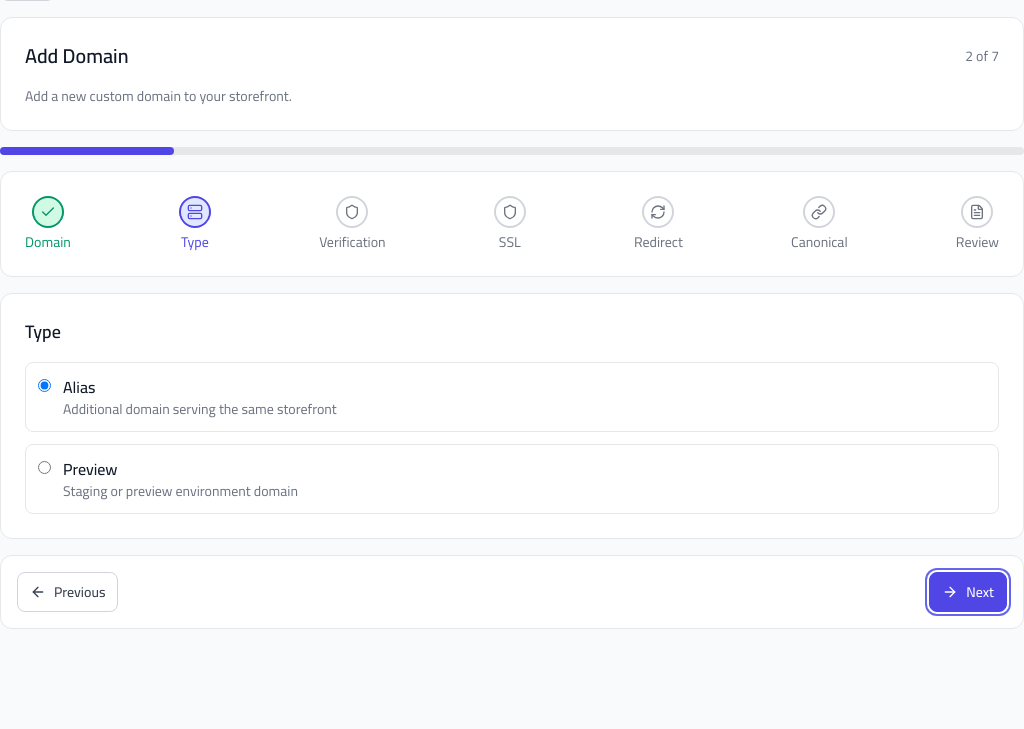
Domain wizard accepted creation and verification recovery › retries only verification setup after a partial success, never creating a second domain
Earlier steps of the test are not shown.
Later steps or results of the test are not shown.
Click the button "Next" at coordinates (968, 592), box 929,572 -> 1007,612
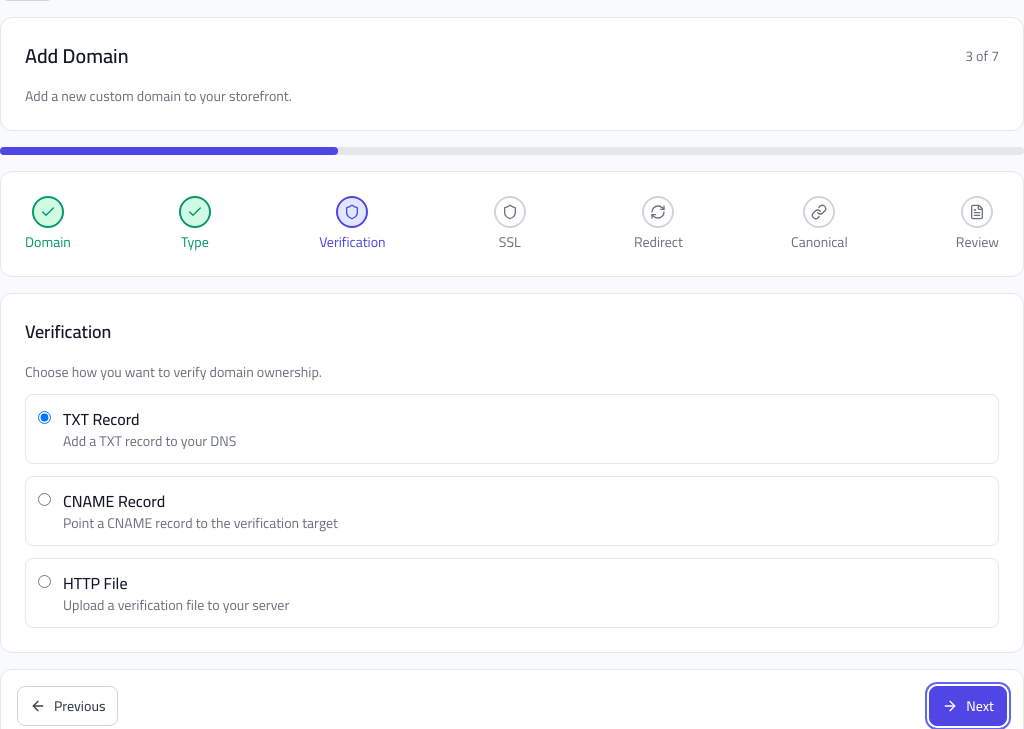
Click the button "Next" at coordinates (968, 706), box 929,686 -> 1007,726
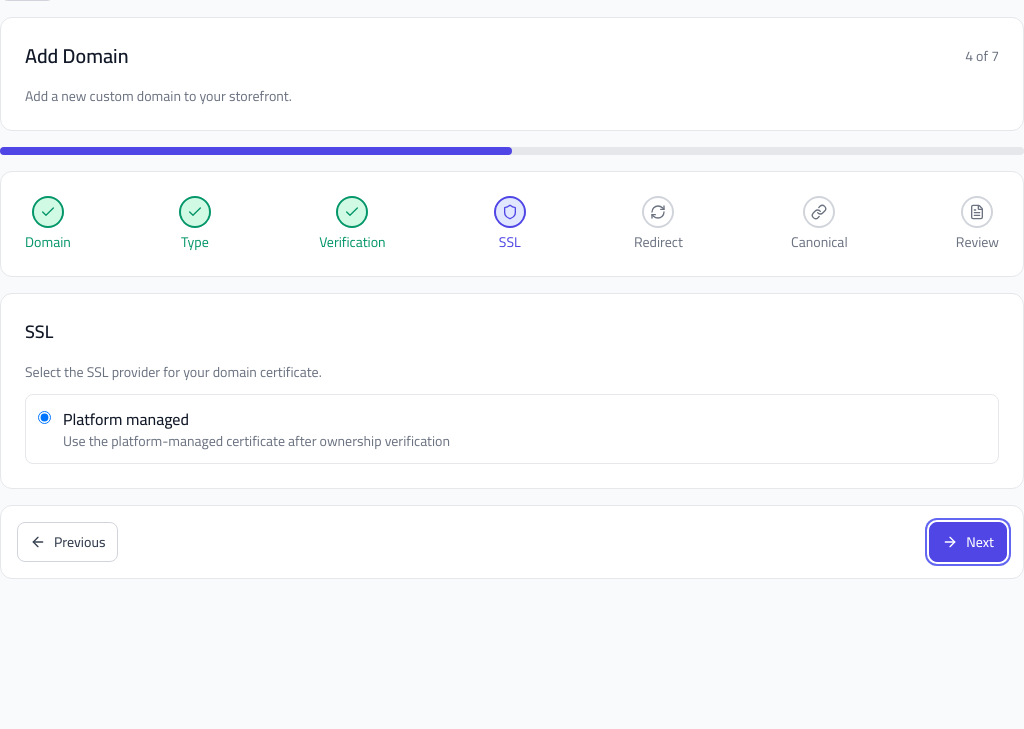
Click the button "Next" at coordinates (968, 542), box 929,522 -> 1007,562
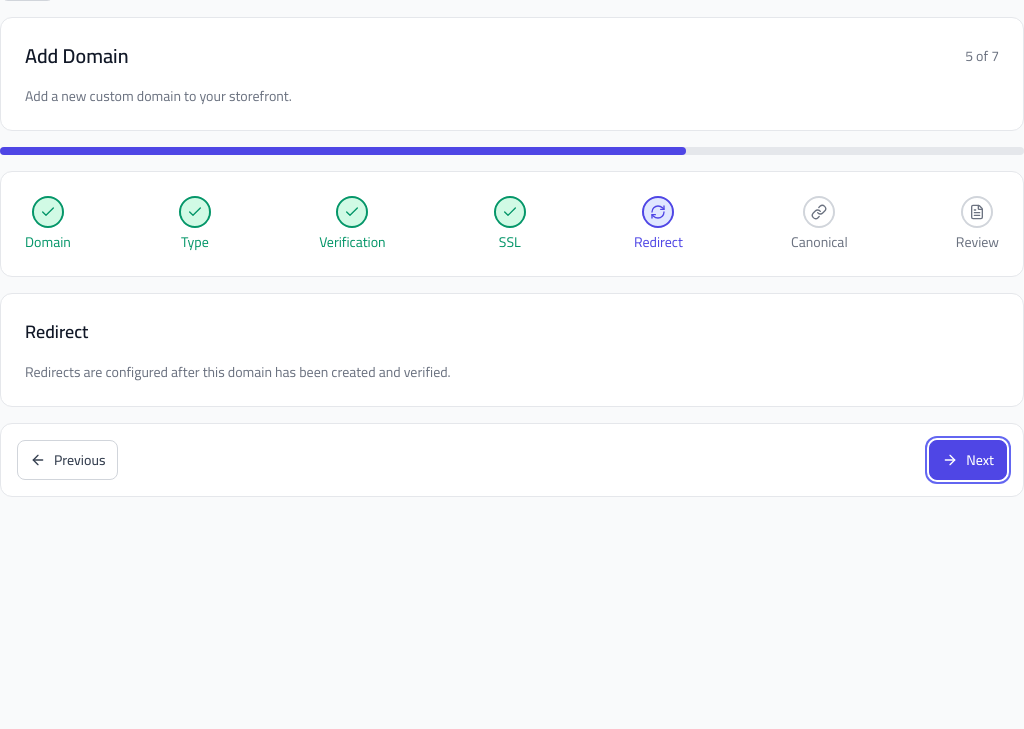
Click the button "Next" at coordinates (968, 460), box 929,440 -> 1007,480
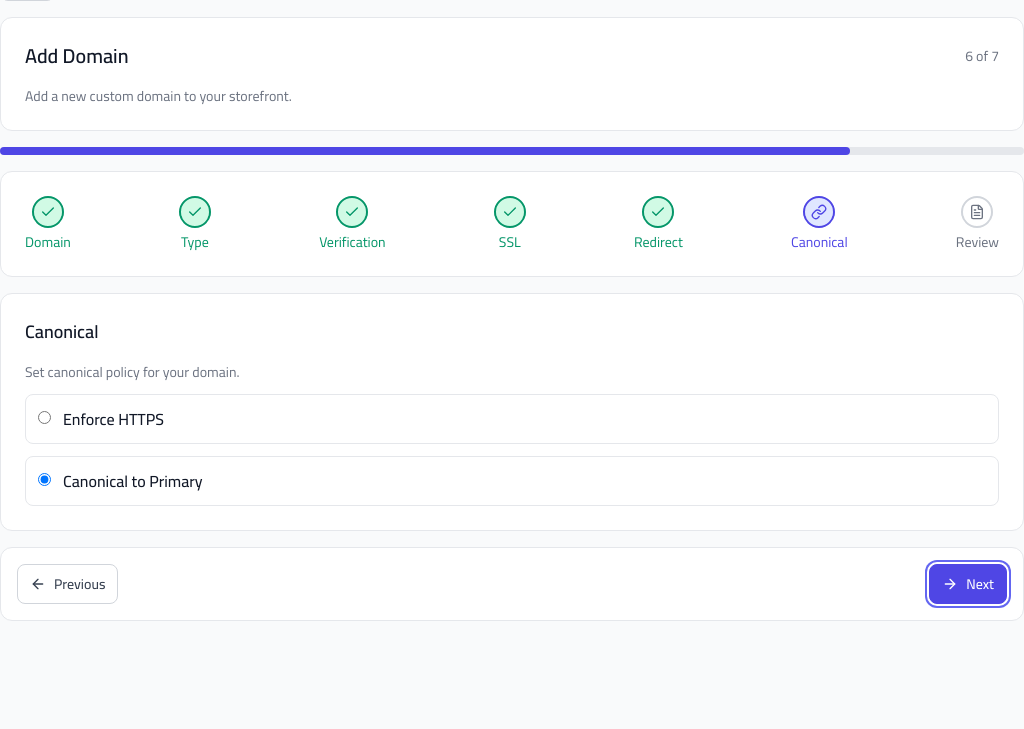
Click the button "Next" at coordinates (968, 584), box 929,564 -> 1007,604
(page scrolled)
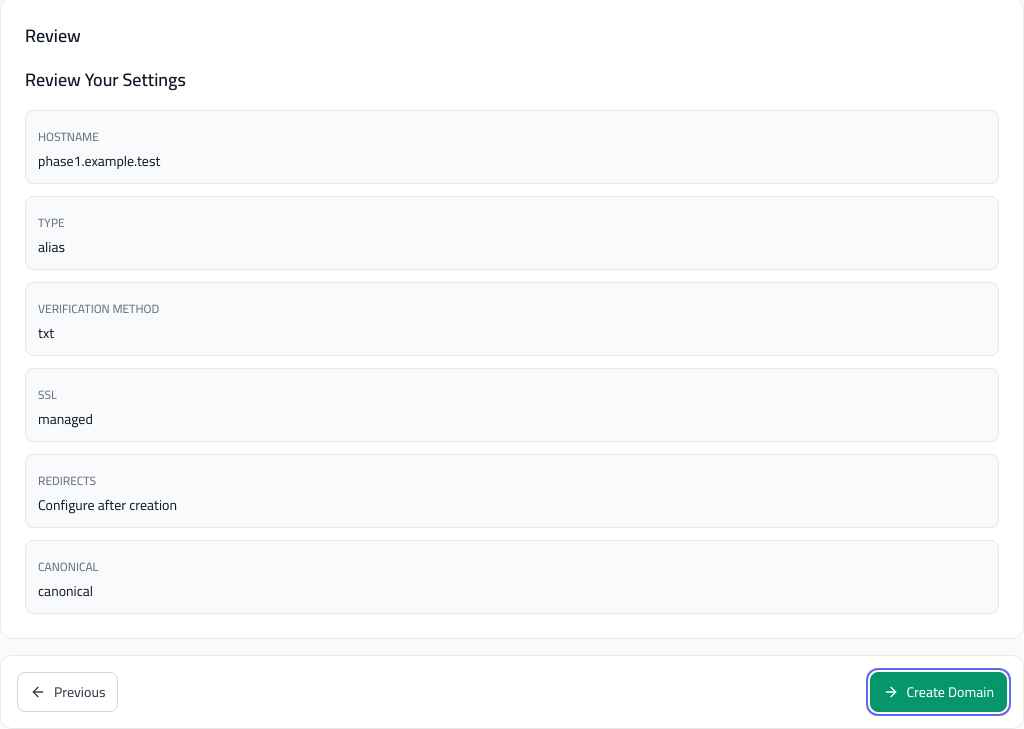
Click the button "Create Domain" at coordinates (938, 692), box 870,672 -> 1007,712
(page scrolled)
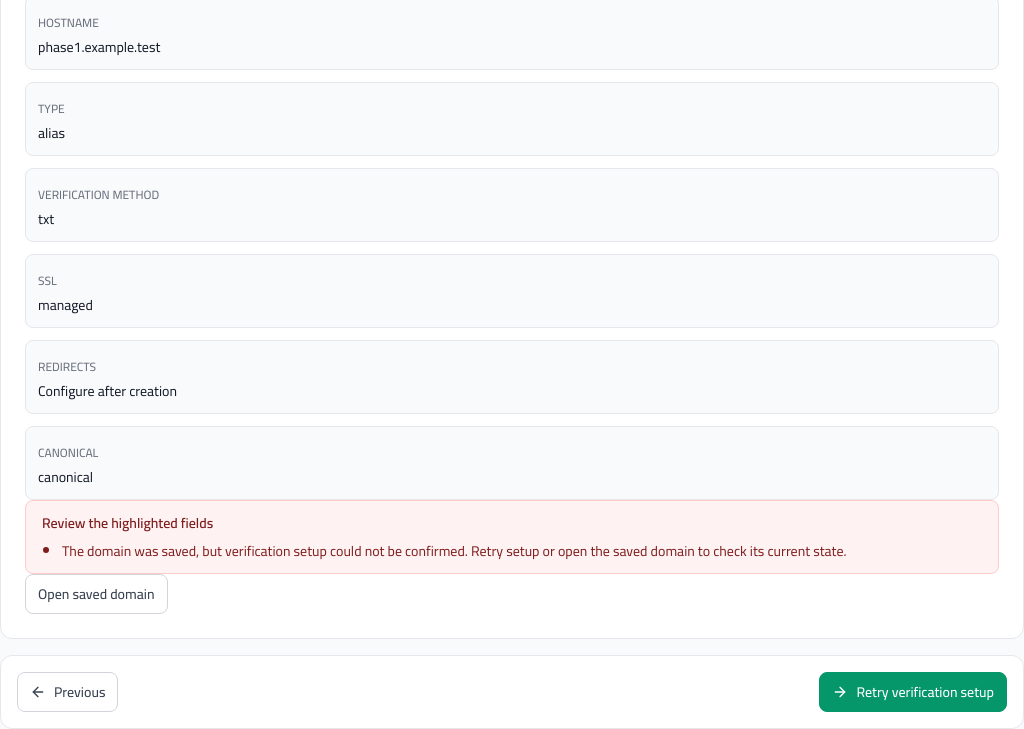
Result: the list item is shown at 62,538 -> 847,564
